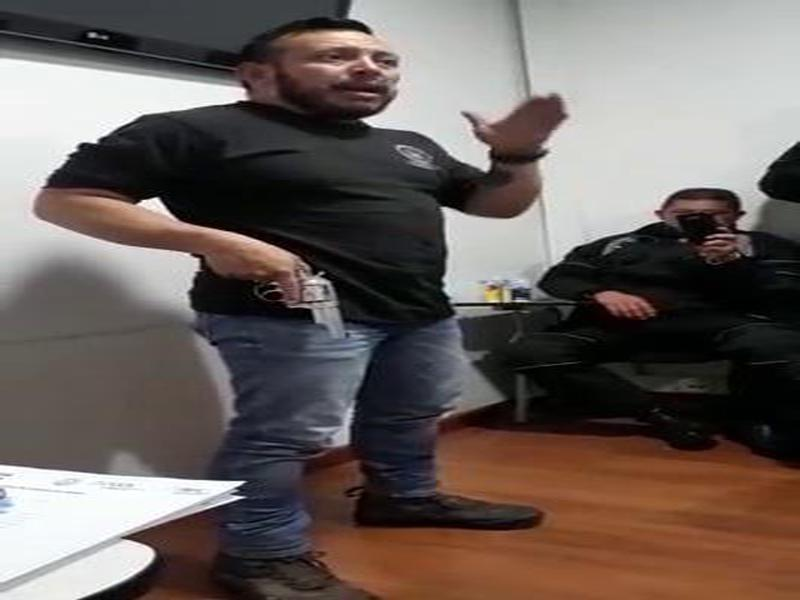Revolver: (238, 242, 363, 366)
